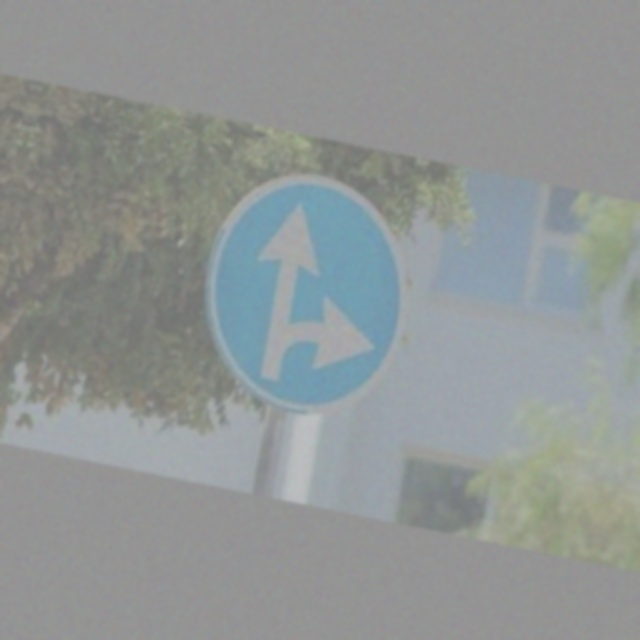Compulsory_Ahead_or_Turn_Right: (185, 158, 429, 435)
